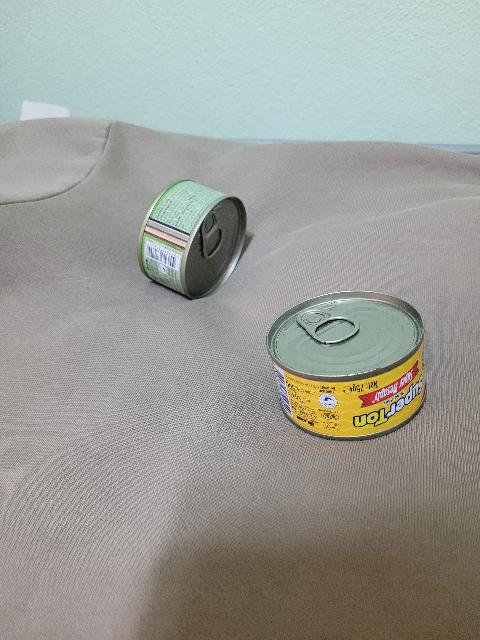Metal: (260, 290, 428, 438), (134, 178, 248, 300)
